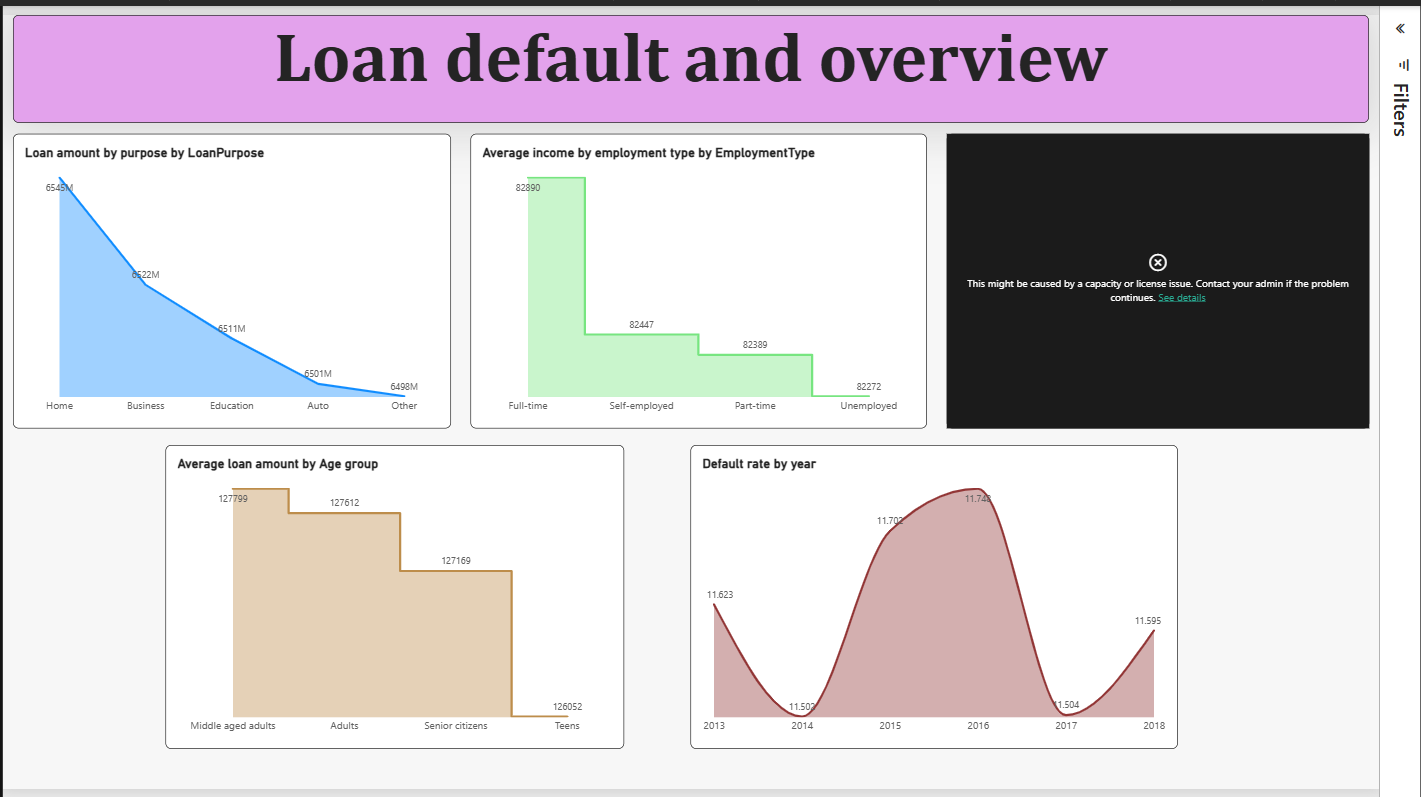

The dashboard page shown, as its layout file describes it:
{"tool":"powerbi","page":{"name":"Loan default and overview","canvas":[1920,1080],"ordinal":0},"visuals":[{"type":"textbox","box":[14.4,0,1891.6,150.3],"z":0},{"type":"lineChart","fields":{"Category":["Loan_default.LoanPurpose"],"Y":["Measures Table.Loan amount by purpose"]},"box":[14.4,165.9,611.3,411.1],"z":1000},{"type":"lineChart","fields":{"Category":["Loan_default.EmploymentType"],"Y":["Measures Table.Average income by employment type"]},"box":[652.7,165.9,636.5,411.1],"z":2000},{"type":"lineChart","fields":{"Category":["Loan_default.EmploymentType"],"Y":["Measures Table.Default rate by employment type"]},"box":[1316.3,165.9,589.6,411.1],"z":3000},{"type":"lineChart","fields":{"Category":["Loan_default.Age group"],"Y":["Measures Table.Average loan by age group"]},"box":[227.2,600.5,640.1,423.7],"z":4000},{"type":"lineChart","fields":{"Category":["Loan_default.year"],"Y":["Measures Table.Default rate by year"]},"box":[959.3,600.5,679.8,423.7],"z":5000}]}

Visuals, with their boxes on the page's 1920x1080 design canvas (x1, y1, x2, y2). These are canvas units, not pixel positions in the 1421x797 screenshot, which may show the page scaled, cropped or inside an application window:
textbox: crop(14, 0, 1906, 150)
lineChart - Loan_default.LoanPurpose x Measures Table.Loan amount by purpose: crop(14, 166, 626, 577)
lineChart - Loan_default.EmploymentType x Measures Table.Average income by employment type: crop(653, 166, 1289, 577)
lineChart - Loan_default.EmploymentType x Measures Table.Default rate by employment type: crop(1316, 166, 1906, 577)
lineChart - Loan_default.Age group x Measures Table.Average loan by age group: crop(227, 600, 867, 1024)
lineChart - Loan_default.year x Measures Table.Default rate by year: crop(959, 600, 1639, 1024)
